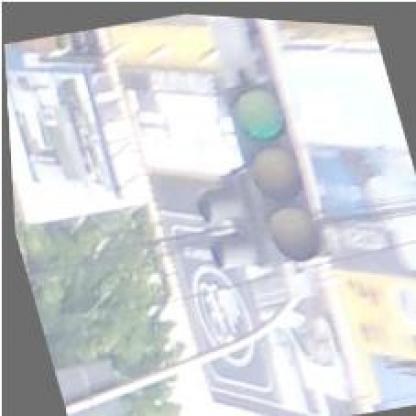green: (224, 79, 322, 266)
